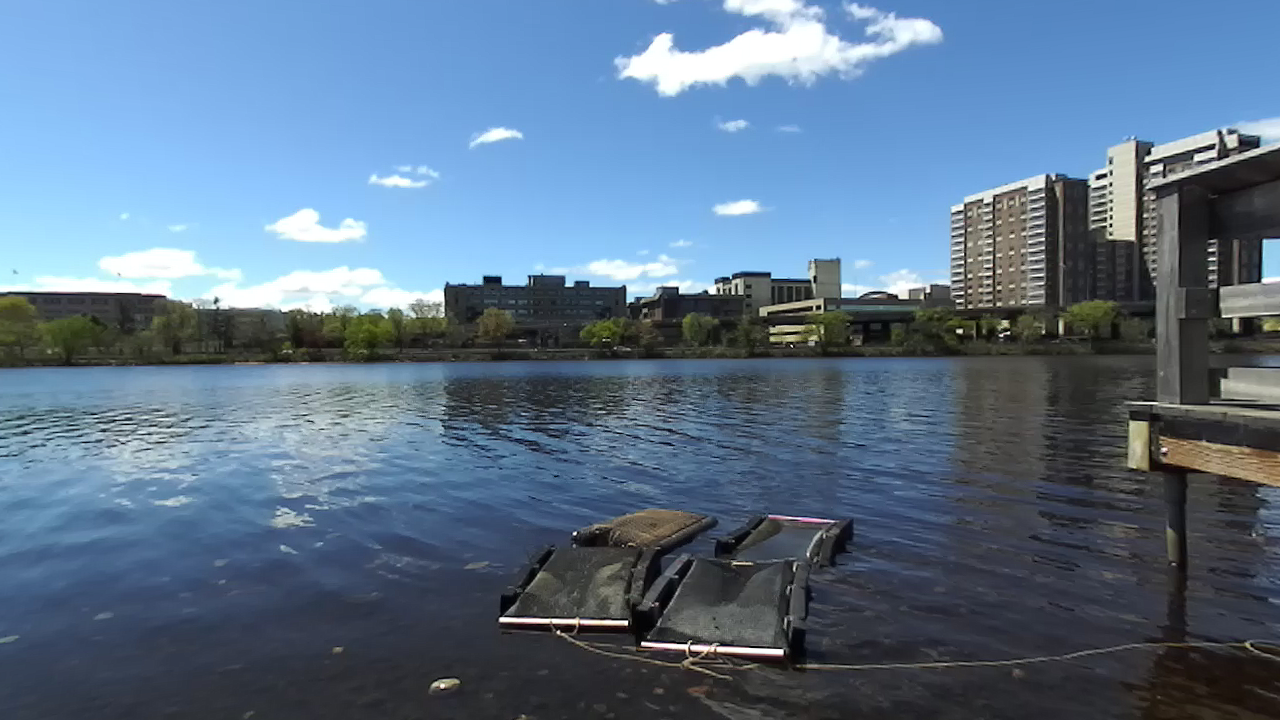bag: (639, 556, 813, 663), (495, 547, 656, 629), (716, 510, 855, 566), (570, 504, 719, 554)
